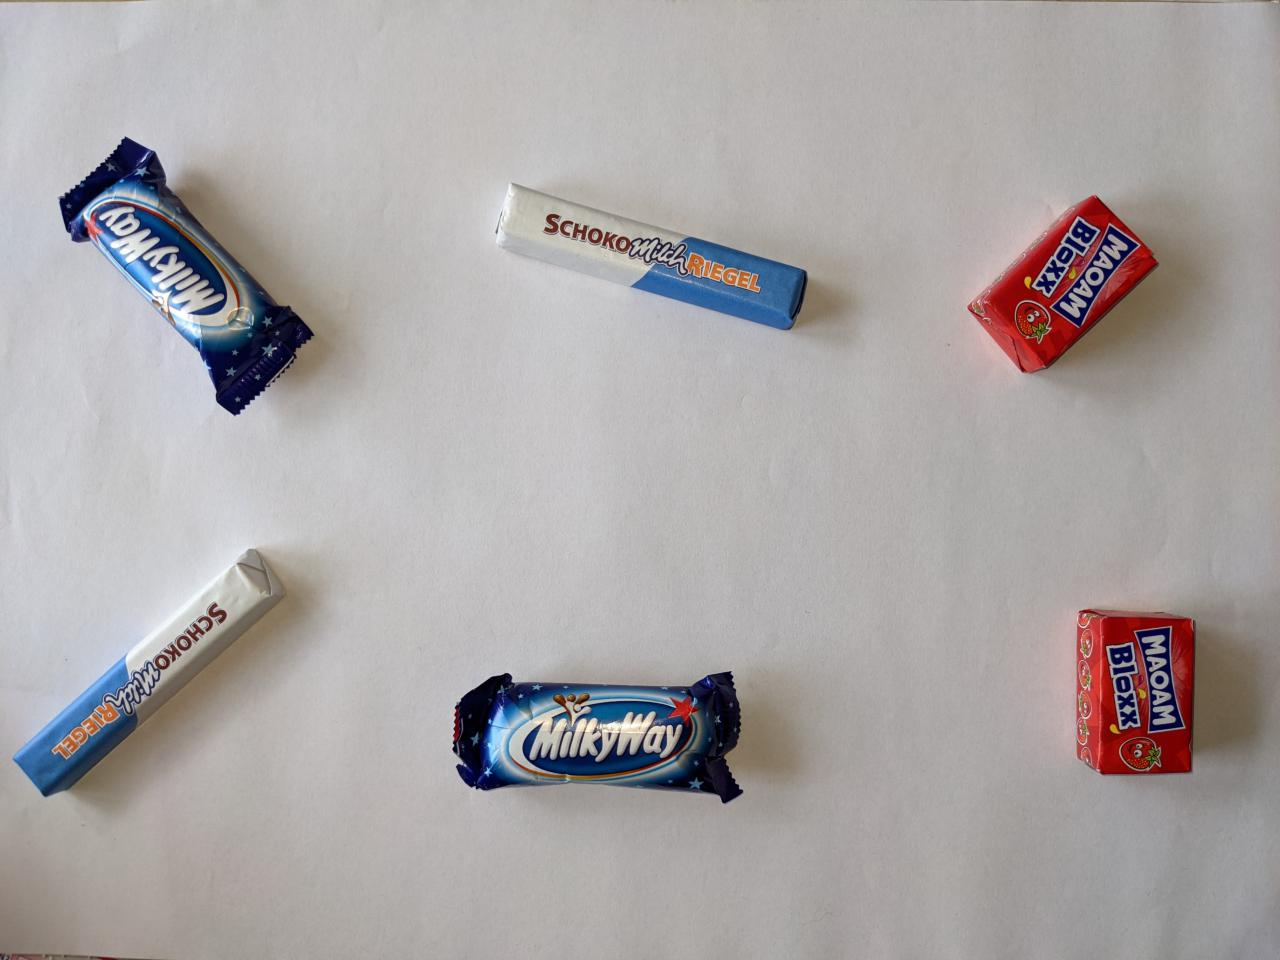MAOAM: (959, 185, 1166, 383), (1069, 602, 1207, 782)
MilkyWay: (51, 130, 323, 424), (444, 663, 753, 808)
Schokoriegel: (6, 542, 296, 805), (485, 172, 813, 337)
